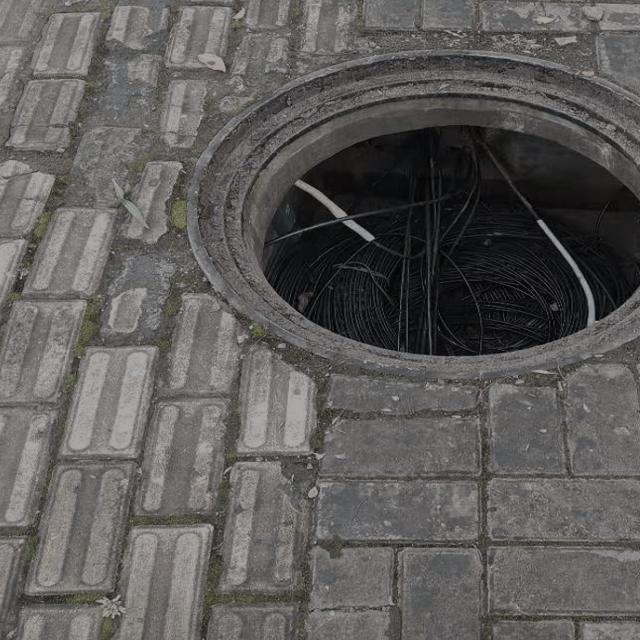lose: (190, 50, 640, 385)
